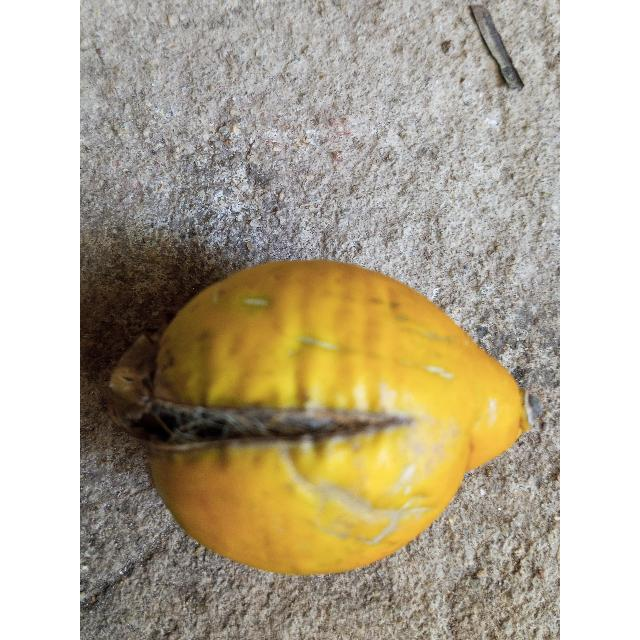damaged: (108, 261, 534, 574)
